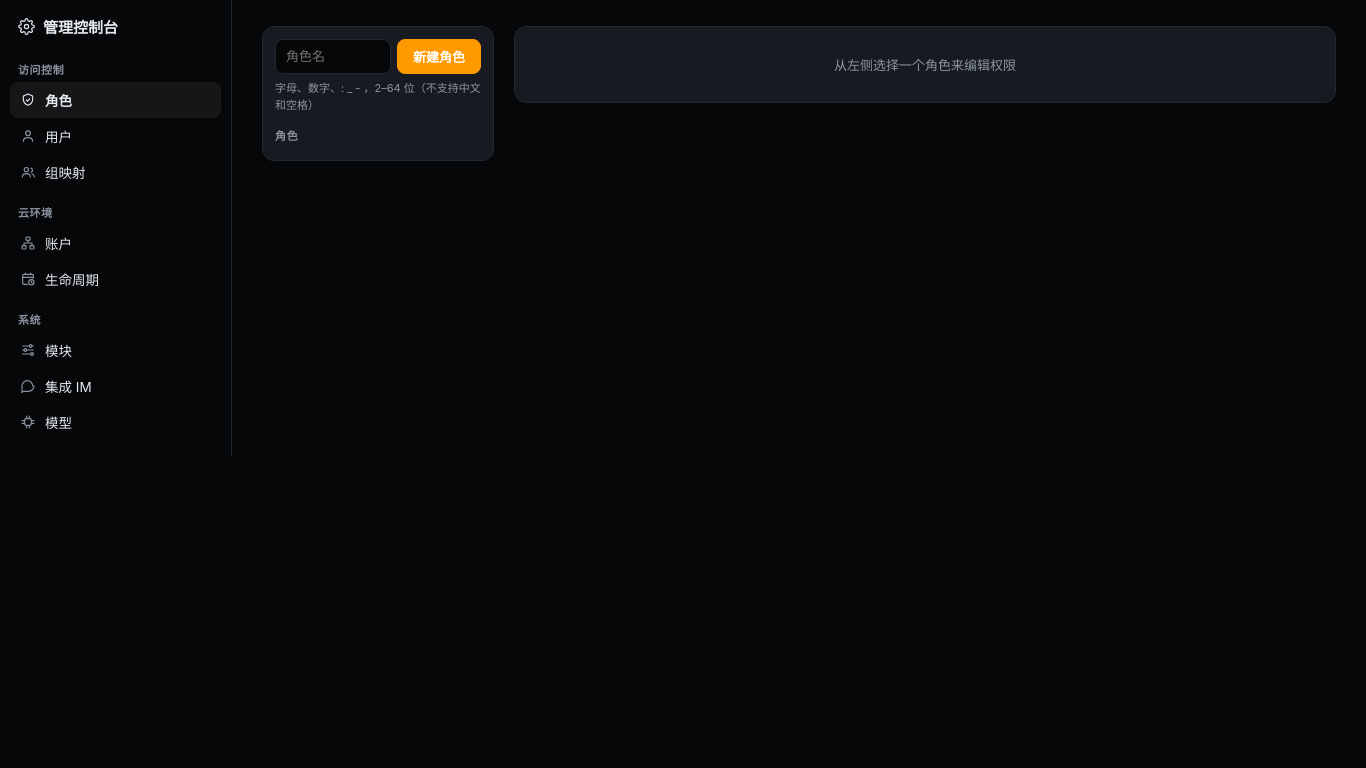
Test: 用户列表：邮箱一列 + 重置密码 + 设邮箱 › 展开编辑里给没邮箱的人设邮箱 → setUserEmail
This screenshot has width=1366, height=768.
Click the button with class "notif-navitem" showing "用户". click: (116, 136)
box: 10,118 -> 221,154
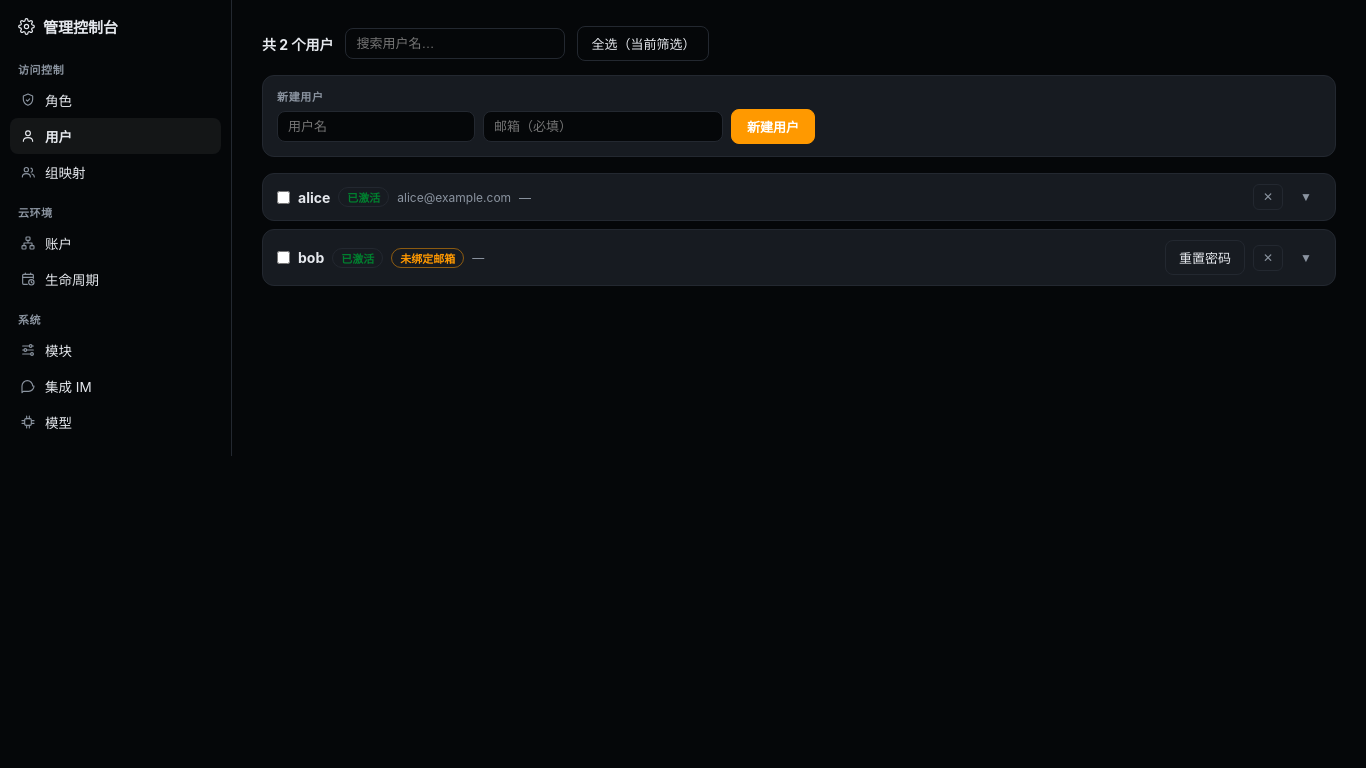
Now the text "bob" is shown
Click the text "bob". click: (311, 258)
box: 298,249 -> 324,266
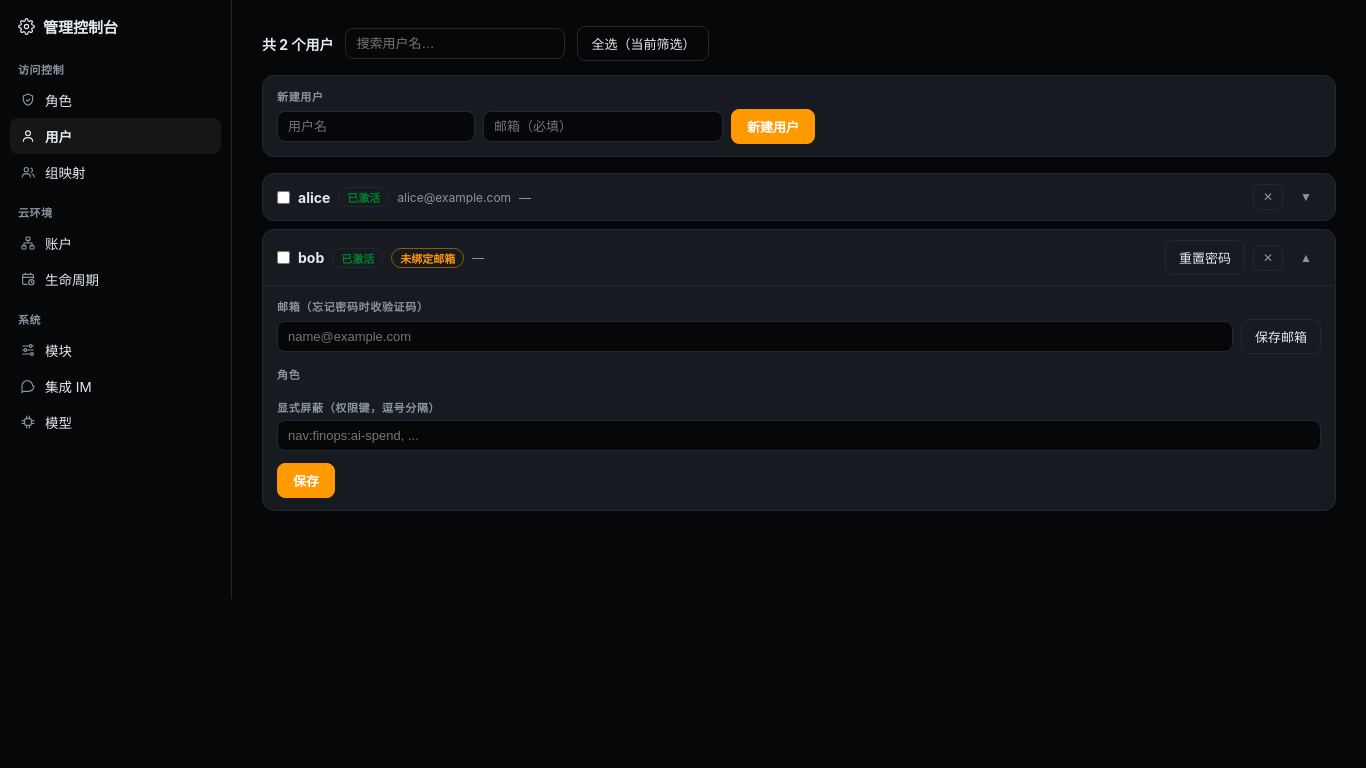
Type "bob@example.com" into the field named "邮箱（忘记密码时收验证码）". click: (755, 336)
box: 277,321 -> 1233,352
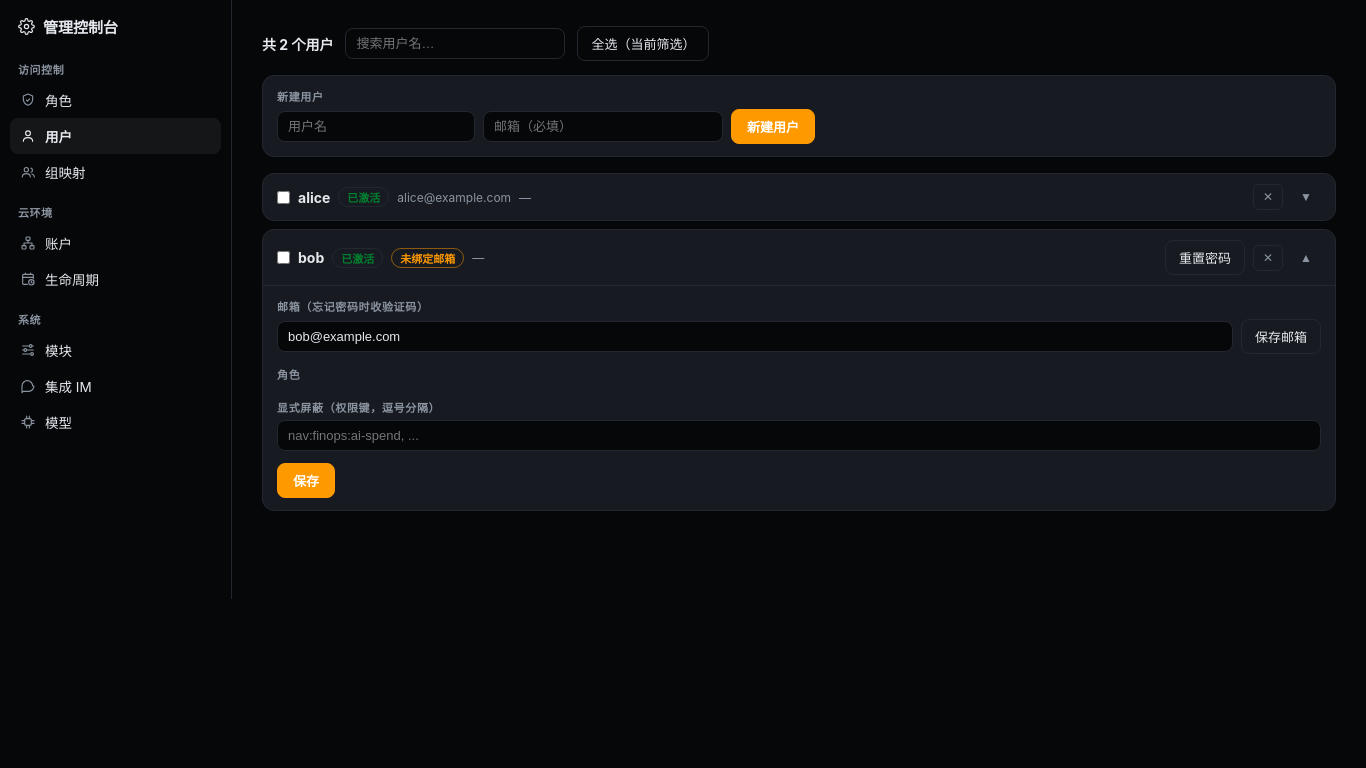
Click the button "保存邮箱". click: (1281, 336)
box: 1241,319 -> 1321,354
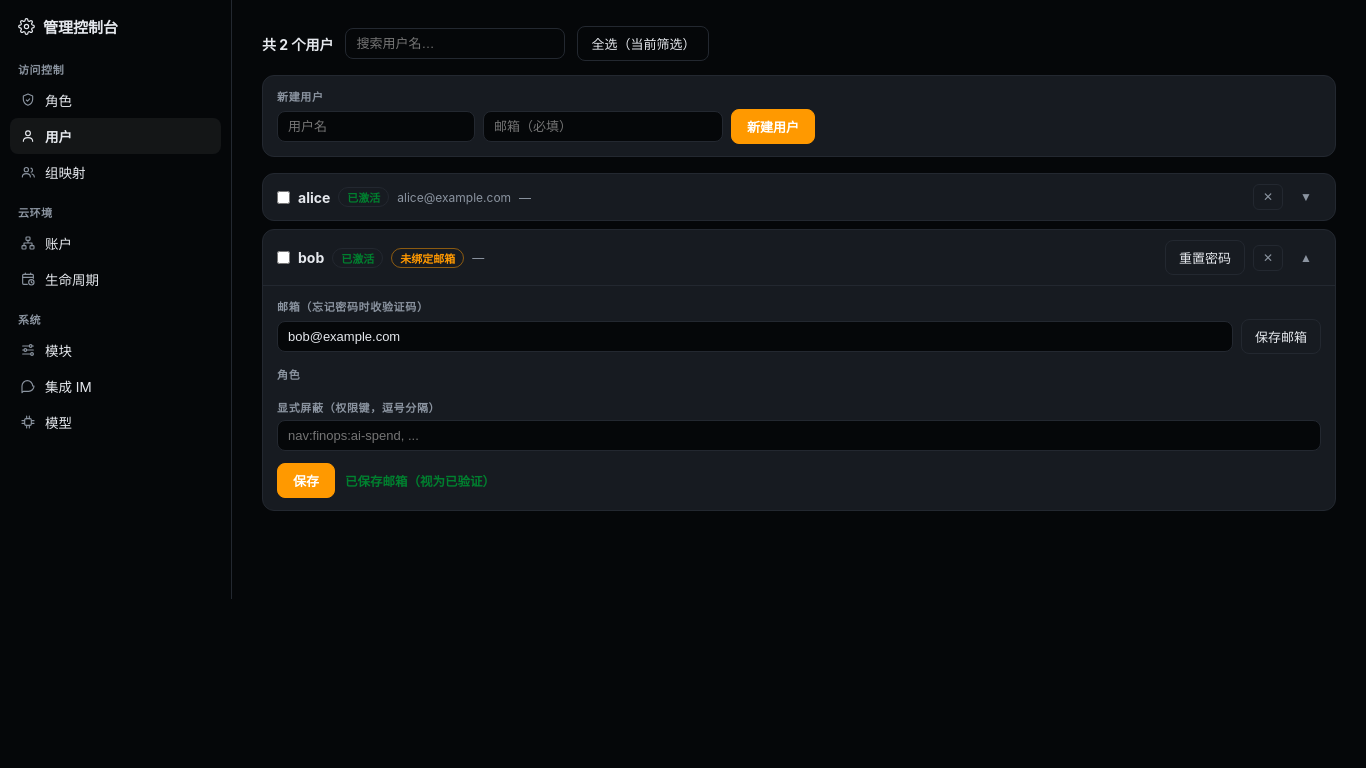
Now the text "已保存邮箱（视为已验证）" is shown, box 345,471 -> 495,490
